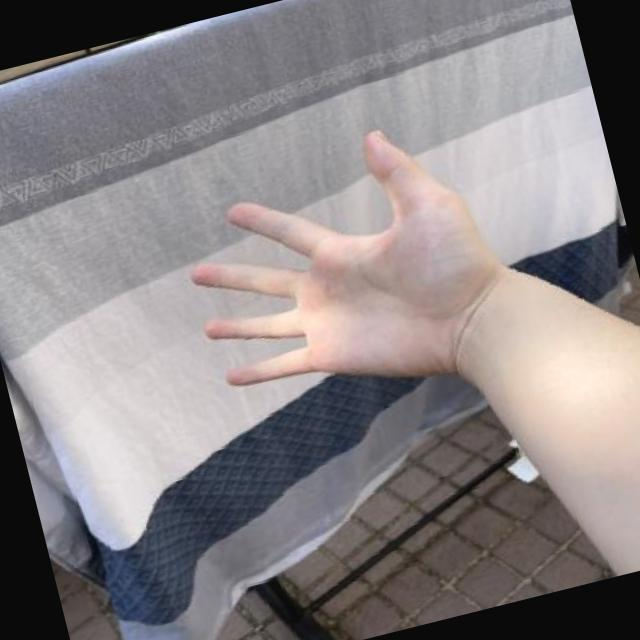hand: (148, 98, 558, 450)
